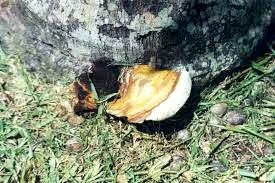Ganoderma - Fruit Body: (105, 60, 195, 124)
